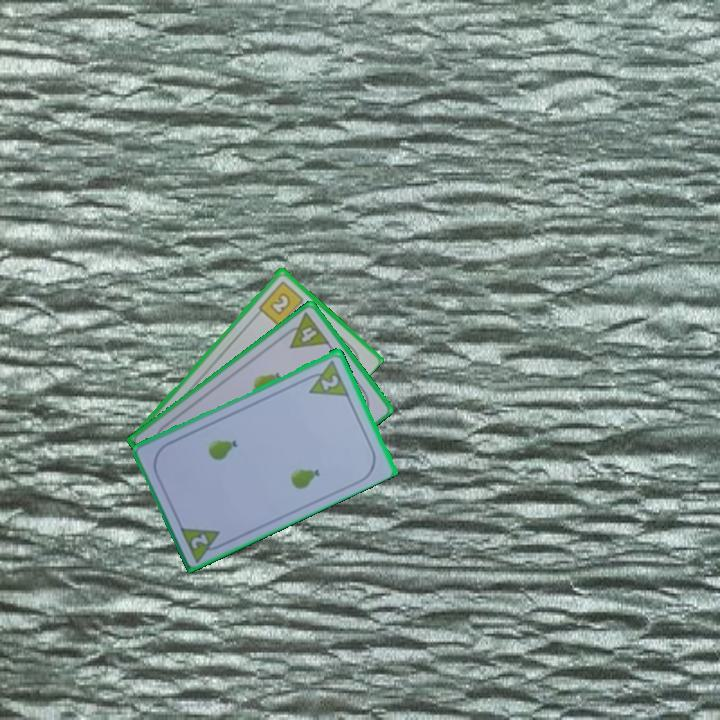2b: (255, 277, 310, 329)
2p: (317, 371, 342, 393), (187, 530, 211, 551)
4p: (278, 309, 332, 351)
